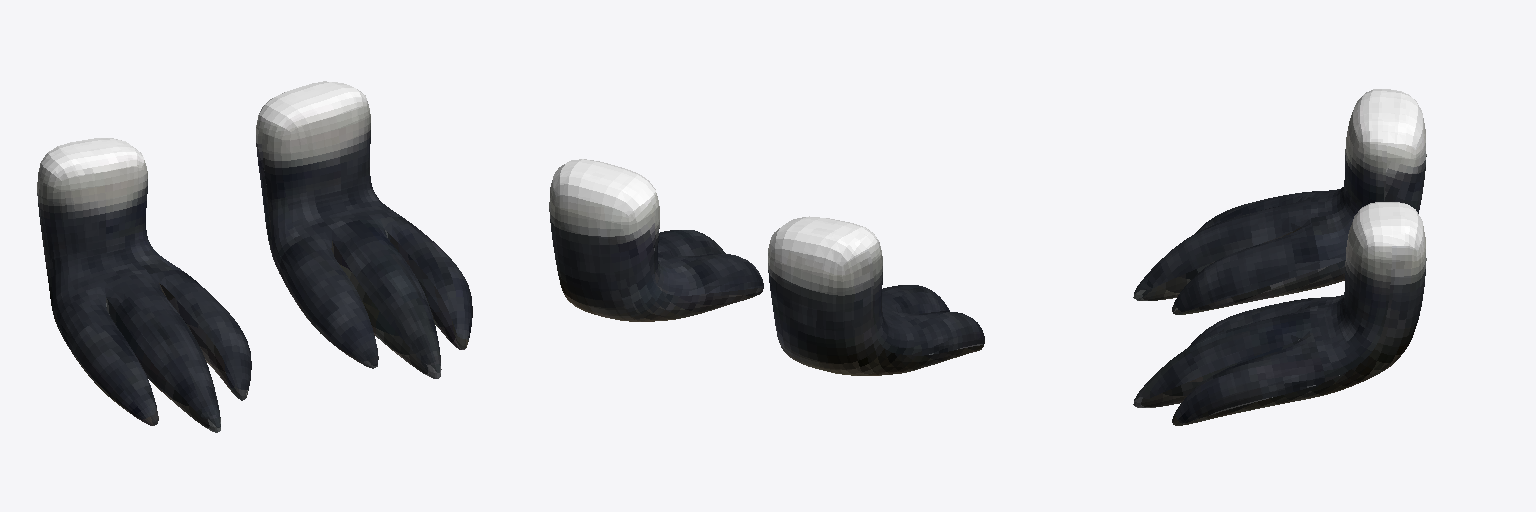
3 views of the same model, side by side, from view 1: azimuth 30°, elevation 25°; view 2: azimuth 150°, elevation 25°; view 3: azimuth 270°, elevation 25° (orthographic).
Parts seen in each view (by area): view 1: patas_polySurface3; view 2: patas_polySurface3; view 3: patas_polySurface3.
Boxes of the visible parts, x1,y1,x2,y2 form: patas_polySurface3: [37, 81, 472, 432]; patas_polySurface3: [549, 159, 984, 375]; patas_polySurface3: [1133, 89, 1426, 425].
Size of the model in its own units: 1.06 by 0.527 by 0.7171.
1 materials, 1 textured.